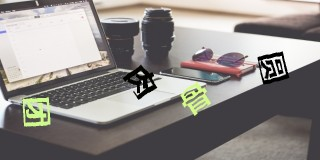团: (22, 97, 51, 128)
圆: (257, 51, 289, 84)
肉: (122, 65, 158, 100)
骨: (179, 83, 211, 116)
